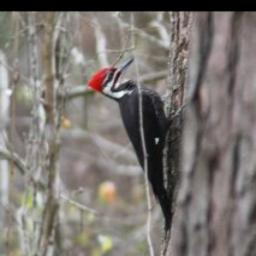Woodpecker: (84, 57, 186, 238)
